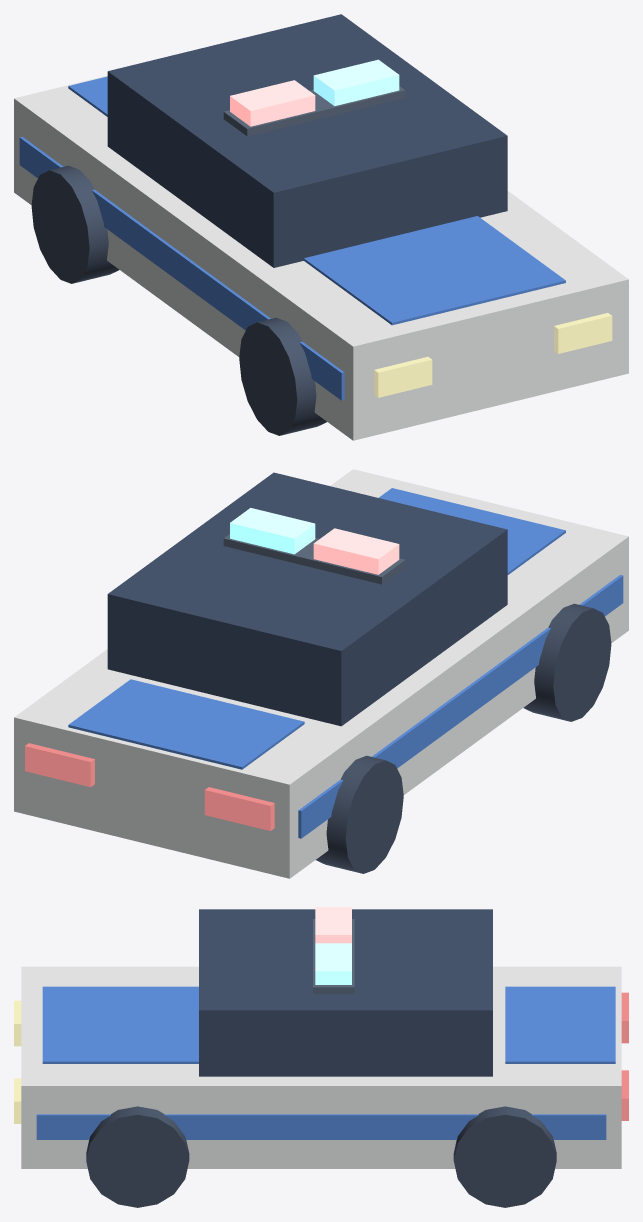
The model's file is police_car.glb.
3 renders of one model, top to bottom at view 1: azimuth 30°, elevation 25°; view 2: azimuth 150°, elevation 25°; view 3: azimuth 270°, elevation 25°, orthographic. The views are drawn at different scales.
Parts seen in each view (by area): view 1: cabin, chassis, stripe_hood, wheel_2, wheel_0, stripe_left, lightbar_blue, lightbar_red, lightbar_base, headlight_0, headlight_1, stripe_trunk; view 2: cabin, chassis, stripe_trunk, wheel_0, wheel_2, stripe_left, stripe_hood, lightbar_red, lightbar_blue, taillight_0, taillight_1, lightbar_base; view 3: chassis, cabin, stripe_hood, stripe_right, stripe_trunk, wheel_1, wheel_3, lightbar_blue, lightbar_red, lightbar_base.
Part boxes in pixels (x1,y1,x2,y2): cabin: [107, 14, 507, 267]; chassis: [14, 75, 628, 440]; stripe_hood: [303, 216, 565, 325]; wheel_2: [31, 165, 119, 283]; wheel_0: [239, 317, 326, 435]; stripe_left: [19, 137, 344, 400]; lightbar_blue: [313, 59, 399, 106]; lightbar_red: [230, 80, 315, 126]; lightbar_base: [223, 86, 405, 136]; headlight_0: [374, 356, 432, 397]; headlight_1: [554, 313, 612, 353]; stripe_trunk: [68, 76, 107, 116]; cabin: [107, 472, 507, 726]; chassis: [14, 469, 628, 878]; stripe_trunk: [68, 679, 304, 769]; wheel_0: [523, 603, 611, 721]; wheel_2: [316, 755, 403, 873]; stripe_left: [298, 575, 623, 838]; stripe_hood: [379, 488, 565, 574]; lightbar_red: [313, 528, 399, 574]; lightbar_blue: [230, 508, 315, 554]; taillight_0: [204, 787, 274, 830]; taillight_1: [25, 743, 94, 787]; lightbar_base: [223, 534, 405, 584]; chassis: [21, 966, 621, 1168]; cabin: [199, 909, 492, 1076]; stripe_hood: [42, 986, 198, 1063]; stripe_right: [36, 1114, 606, 1139]; stripe_trunk: [505, 986, 615, 1063]; wheel_1: [86, 1106, 189, 1207]; wheel_3: [453, 1106, 556, 1207]; lightbar_blue: [315, 943, 351, 984]; lightbar_red: [315, 907, 351, 943]; lightbar_base: [313, 919, 354, 993].
Bounding box in the file's own units: 2.62 × 1.81 × 5.02.
